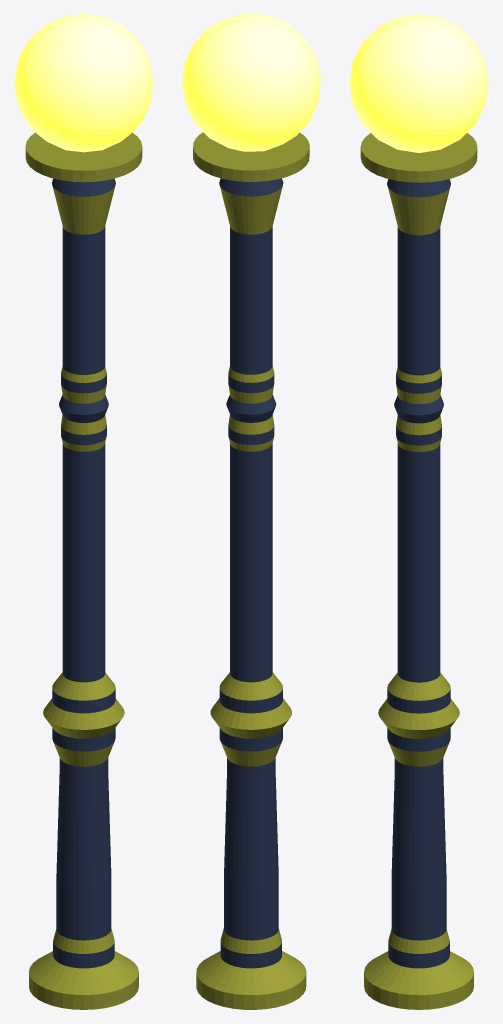
The model's file is LampPostModel04.fbx.
The picture shows the model from 3 angles, left to right: view 1: azimuth 90°, elevation 25°; view 2: azimuth 150°, elevation 25°; view 3: azimuth 270°, elevation 25°; orthographic projection.
Parts seen in each view (by area): view 1: LampPost04; view 2: LampPost04; view 3: LampPost04.
Boxes of the visible parts, left/top/right/bottom form: LampPost04: left=14, top=14, right=153, bottom=1009; LampPost04: left=182, top=14, right=320, bottom=1009; LampPost04: left=349, top=14, right=488, bottom=1009.
Size of the model in its own units: 94.95 by 727 by 94.95.
